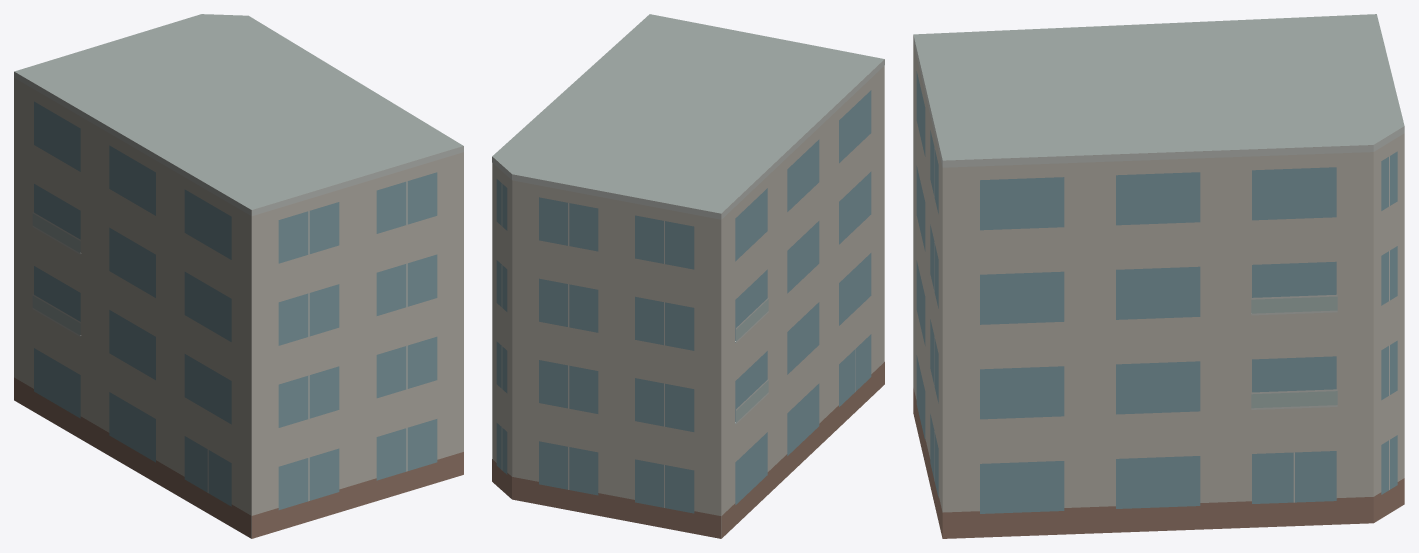
Rendered from survey-upis-32670639.glb.
3 views of the same model, side by side, from view 1: azimuth 30°, elevation 25°; view 2: azimuth 150°, elevation 25°; view 3: azimuth 270°, elevation 25° (orthographic). The views are drawn at different scales.
Visible parts, largest first — view 1: survey-upis-32670639.tmp; view 2: survey-upis-32670639.tmp; view 3: survey-upis-32670639.tmp.
Part boxes in pixels (x1,y1,x2,y2): survey-upis-32670639.tmp: [14, 14, 463, 538]; survey-upis-32670639.tmp: [492, 14, 884, 538]; survey-upis-32670639.tmp: [913, 14, 1404, 538].
Size of the model in its own units: 10.77 by 12.95 by 15.25.
